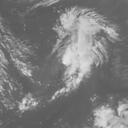cyclone: (55, 7, 113, 88)
